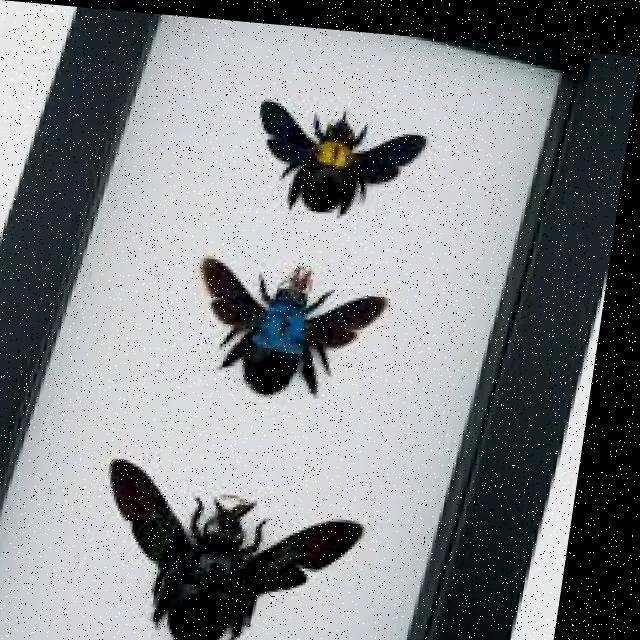Xylocopa: (97, 443, 391, 640), (191, 240, 420, 407), (242, 80, 434, 219)
